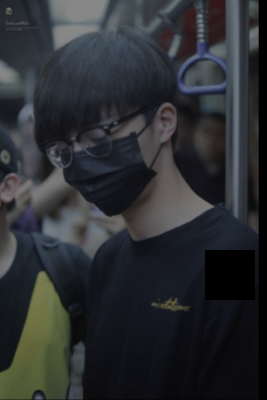with_mask: (51, 106, 161, 217)
